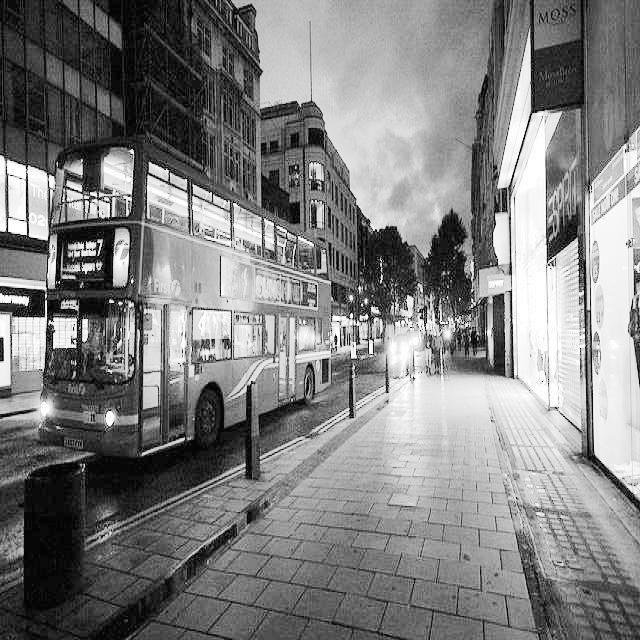Bus: (42, 136, 338, 461)
